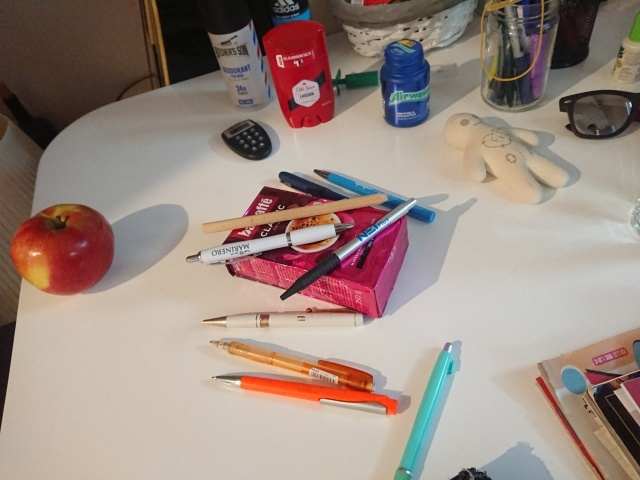Barcaffe Classic Original 225g: (219, 184, 412, 322)
